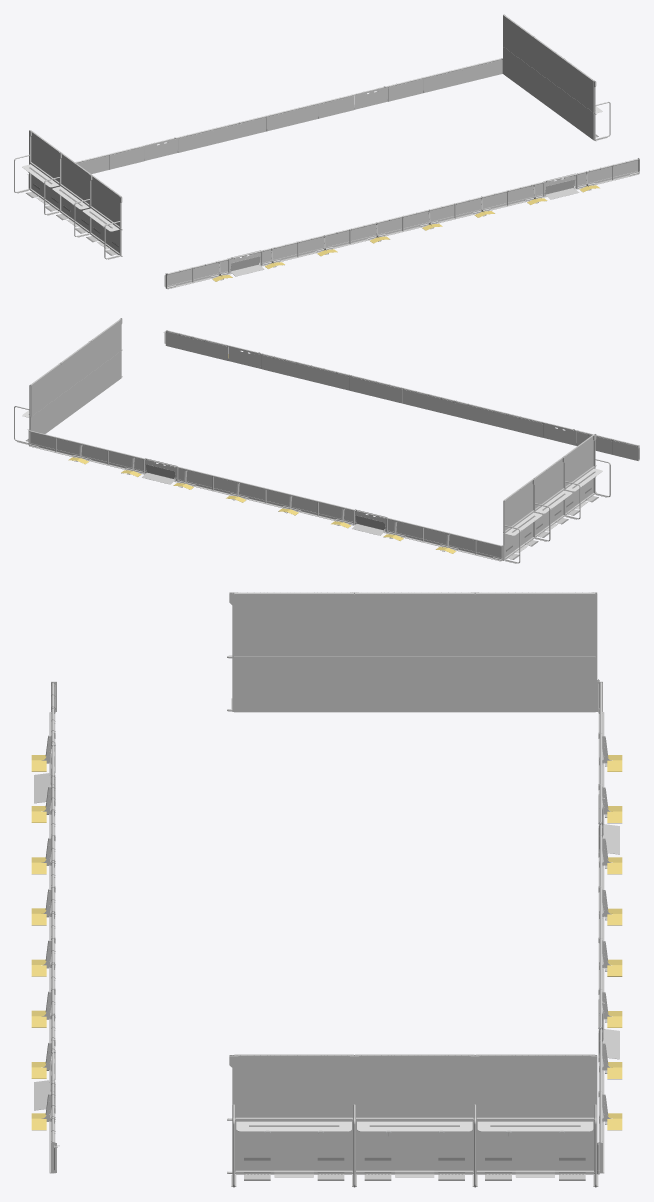
The model's file is Field Perimeter.fbx.
3 renders of one model, top to bottom at view 1: azimuth 30°, elevation 25°; view 2: azimuth 150°, elevation 25°; view 3: azimuth 270°, elevation 25°, orthographic. The views are drawn at different scales.
Parts seen in each view (by area): view 1: FE-00012: Driver Station Acrylic.001, FE-00012: Driver Station Acrylic.004, FE-00012: Driver Station Acrylic.005, FE-00012: Driver Station Acrylic, FE-00012: Driver Station Acrylic.003, FE-00012: Driver Station Acrylic.002, FE-00004-01: 3/16" Diamond Plate Sheet, 6061 Aluminum.001, FE-00004-01: 3/16" Diamond Plate Sheet, 6061 Aluminum.005, FE-00004-01: 3/16" Diamond Plate Sheet, 6061 Aluminum.004, FE-00010: Field Plastic "C".002, FE-00010: Field Plastic "C".001, FE-00010: Field Plastic "C".003 (+18 smaller); view 2: FE-00012: Driver Station Acrylic.004, FE-00012: Driver Station Acrylic.001, FE-00012: Driver Station Acrylic.005, FE-00012: Driver Station Acrylic.003, FE-00012: Driver Station Acrylic.002, FE-00012: Driver Station Acrylic, FE-00004-01: 3/16" Diamond Plate Sheet, 6061 Aluminum.005, FE-00004-01: 3/16" Diamond Plate Sheet, 6061 Aluminum.004, FE-00010: Field Plastic "C".004, FE-00010: Field Plastic "C".007, FE-00010: Field Plastic "C".006, FE-00010: Field Plastic "C".005 (+20 smaller); view 3: FE-00012: Driver Station Acrylic.002, FE-00012: Driver Station Acrylic.003, FE-00012: Driver Station Acrylic, FE-00012: Driver Station Acrylic.001, FE-00012: Driver Station Acrylic.005, FE-00012: Driver Station Acrylic.004, FE-00004-01: 3/16" Diamond Plate Sheet, 6061 Aluminum.002, FE-00004-01: 3/16" Diamond Plate Sheet, 6061 Aluminum.003, FE-00004-01: 3/16" Diamond Plate Sheet, 6061 Aluminum, FE-00004-01: 3/16" Diamond Plate Sheet, 6061 Aluminum.001, FE-00004-01: 3/16" Diamond Plate Sheet, 6061 Aluminum.004, FE-00004-01: 3/16" Diamond Plate Sheet, 6061 Aluminum.005 (+3 smaller).
Boxes of the visible parts, left/top/right/bottom form: FE-00012: Driver Station Acrylic.001: left=503, top=17, right=533, bottom=68; FE-00012: Driver Station Acrylic.004: left=563, top=61, right=593, bottom=112; FE-00012: Driver Station Acrylic.005: left=533, top=39, right=563, bottom=90; FE-00012: Driver Station Acrylic: left=91, top=177, right=119, bottom=226; FE-00012: Driver Station Acrylic.003: left=61, top=154, right=89, bottom=203; FE-00012: Driver Station Acrylic.002: left=31, top=132, right=59, bottom=181; FE-00004-01: 3/16" Diamond Plate Sheet, 6061 Aluminum.001: left=503, top=47, right=533, bottom=95; FE-00004-01: 3/16" Diamond Plate Sheet, 6061 Aluminum.005: left=533, top=69, right=563, bottom=117; FE-00004-01: 3/16" Diamond Plate Sheet, 6061 Aluminum.004: left=563, top=92, right=593, bottom=140; FE-00010: Field Plastic "C".002: left=214, top=117, right=266, bottom=144; FE-00010: Field Plastic "C".001: left=424, top=66, right=476, bottom=92; FE-00010: Field Plastic "C".003: left=266, top=104, right=318, bottom=131; FE-00012: Driver Station Acrylic.004: left=91, top=321, right=121, bottom=372; FE-00012: Driver Station Acrylic.001: left=31, top=365, right=61, bottom=416; FE-00012: Driver Station Acrylic.005: left=61, top=343, right=91, bottom=394; FE-00012: Driver Station Acrylic.003: left=535, top=459, right=563, bottom=508; FE-00012: Driver Station Acrylic.002: left=505, top=481, right=533, bottom=530; FE-00012: Driver Station Acrylic: left=565, top=437, right=593, bottom=485; FE-00004-01: 3/16" Diamond Plate Sheet, 6061 Aluminum.005: left=61, top=374, right=91, bottom=422; FE-00004-01: 3/16" Diamond Plate Sheet, 6061 Aluminum.004: left=91, top=352, right=121, bottom=399; FE-00010: Field Plastic "C".004: left=297, top=363, right=349, bottom=390; FE-00010: Field Plastic "C".007: left=402, top=389, right=454, bottom=416; FE-00010: Field Plastic "C".006: left=350, top=376, right=402, bottom=403; FE-00010: Field Plastic "C".005: left=454, top=402, right=506, bottom=428; FE-00012: Driver Station Acrylic.002: left=475, top=594, right=595, bottom=656; FE-00012: Driver Station Acrylic.003: left=354, top=594, right=474, bottom=656; FE-00012: Driver Station Acrylic: left=234, top=594, right=354, bottom=656; FE-00012: Driver Station Acrylic.001: left=476, top=1056, right=594, bottom=1117; FE-00012: Driver Station Acrylic.005: left=356, top=1056, right=473, bottom=1117; FE-00012: Driver Station Acrylic.004: left=235, top=1056, right=352, bottom=1117; FE-00004-01: 3/16" Diamond Plate Sheet, 6061 Aluminum.002: left=475, top=658, right=595, bottom=712; FE-00004-01: 3/16" Diamond Plate Sheet, 6061 Aluminum.003: left=354, top=658, right=474, bottom=712; FE-00004-01: 3/16" Diamond Plate Sheet, 6061 Aluminum: left=234, top=658, right=354, bottom=712; FE-00004-01: 3/16" Diamond Plate Sheet, 6061 Aluminum.001: left=476, top=1121, right=594, bottom=1171; FE-00004-01: 3/16" Diamond Plate Sheet, 6061 Aluminum.004: left=235, top=1121, right=352, bottom=1171; FE-00004-01: 3/16" Diamond Plate Sheet, 6061 Aluminum.005: left=356, top=1121, right=473, bottom=1171.
Size of the model in its own units: 1772 by 199 by 895.
